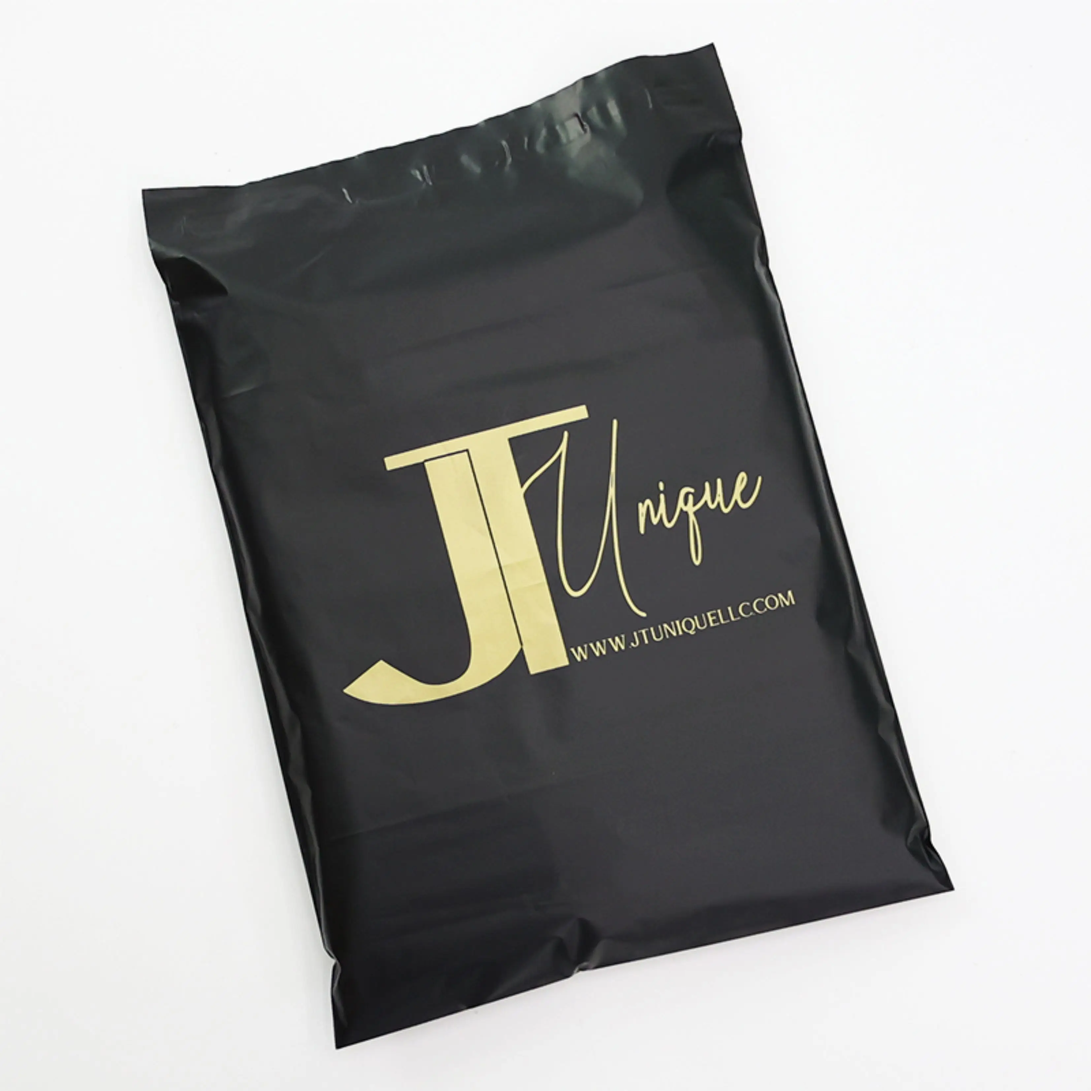Parcel: (132, 32, 952, 1040)
